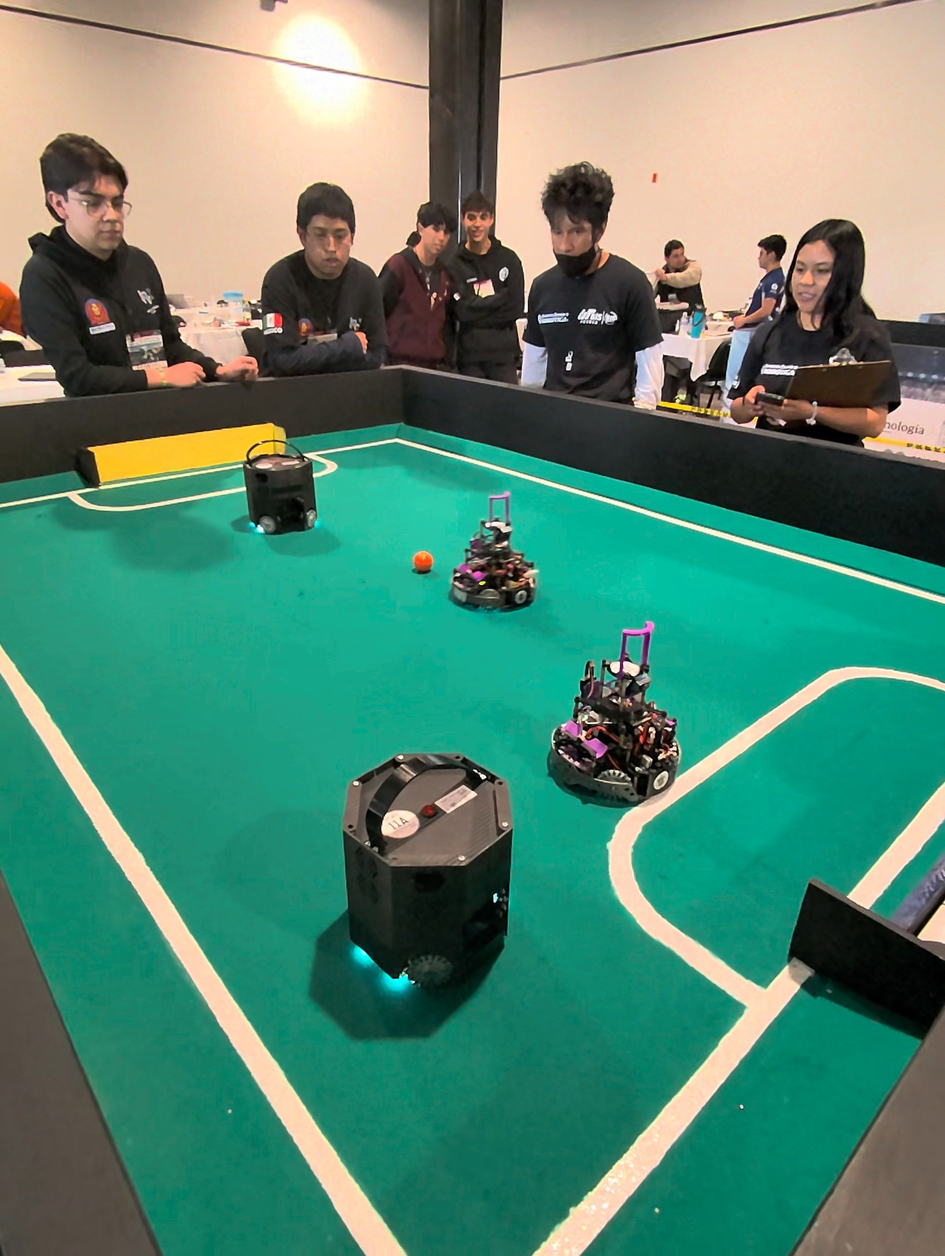Robot: (340, 721, 515, 1037), (551, 639, 682, 815), (239, 422, 330, 557), (452, 508, 543, 616)
pelota: (415, 553, 434, 571)
